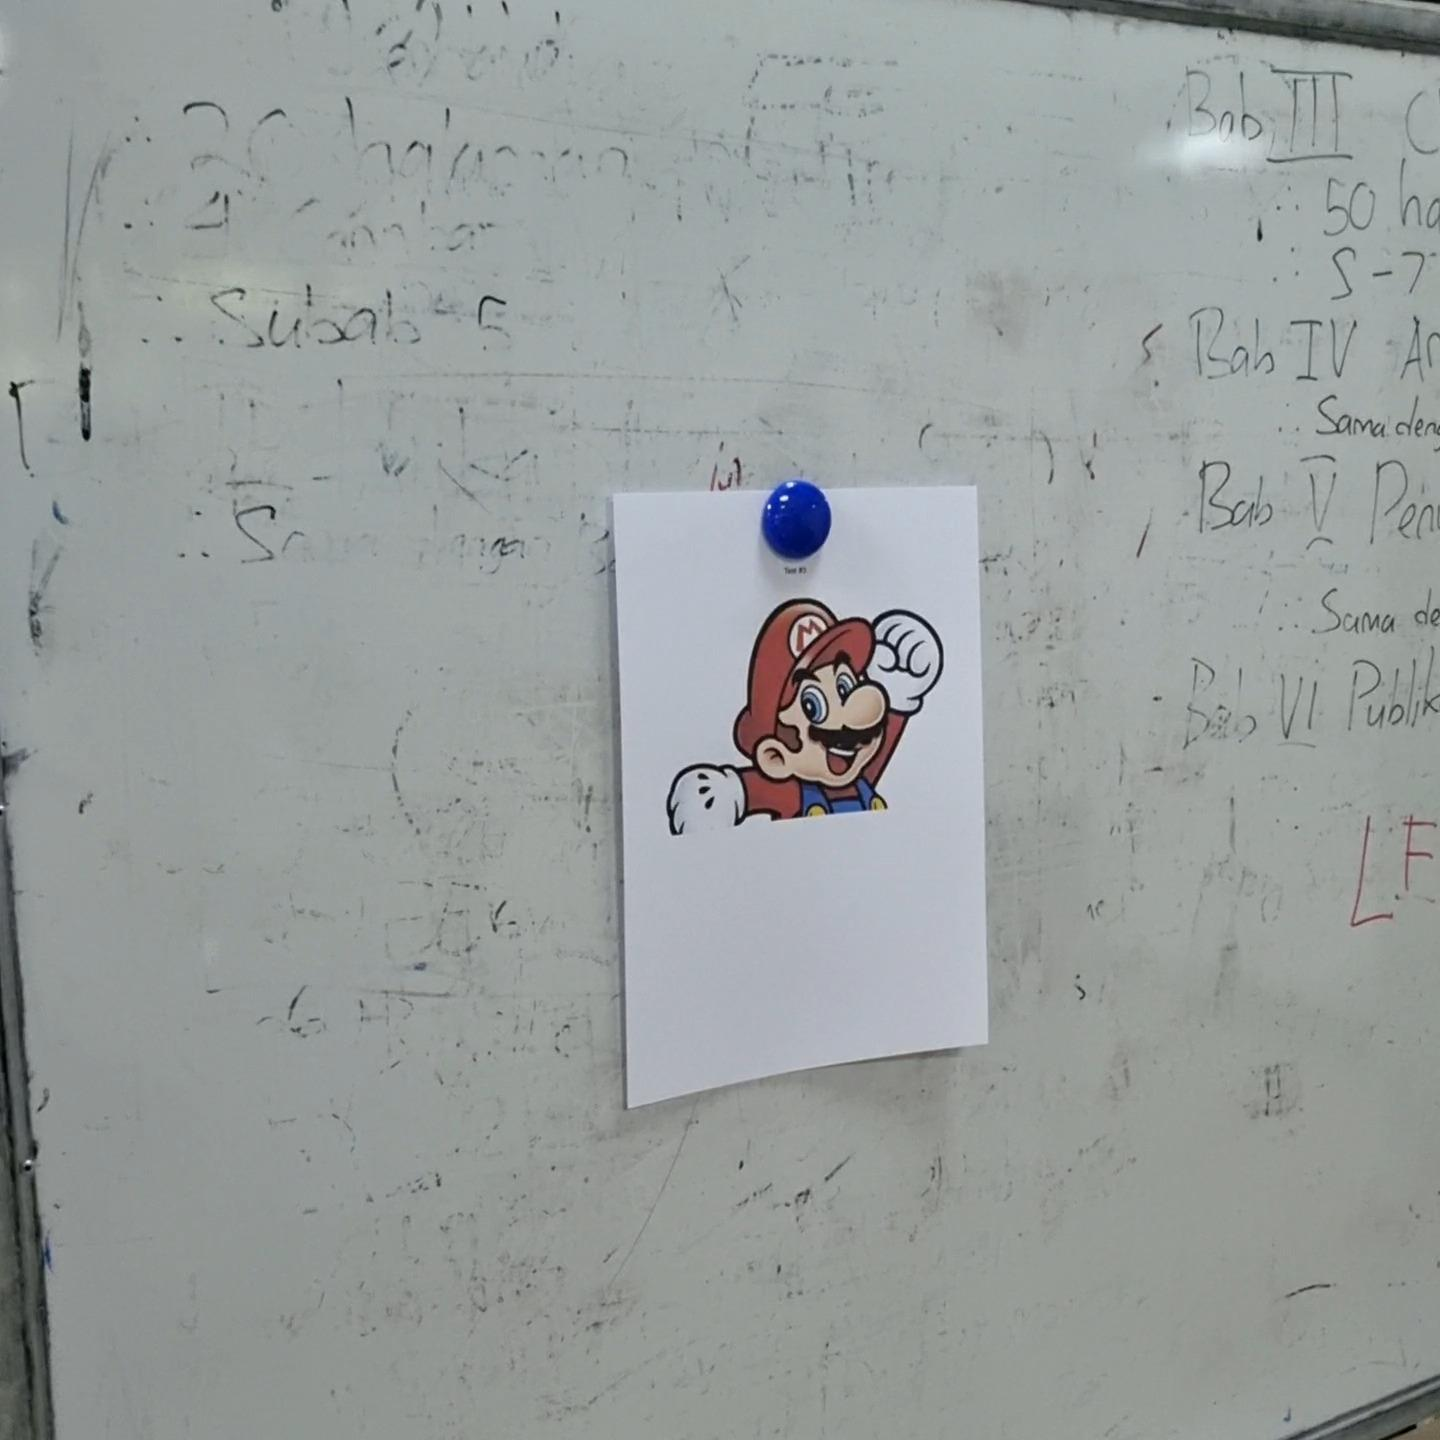mario: (661, 587, 951, 845)
